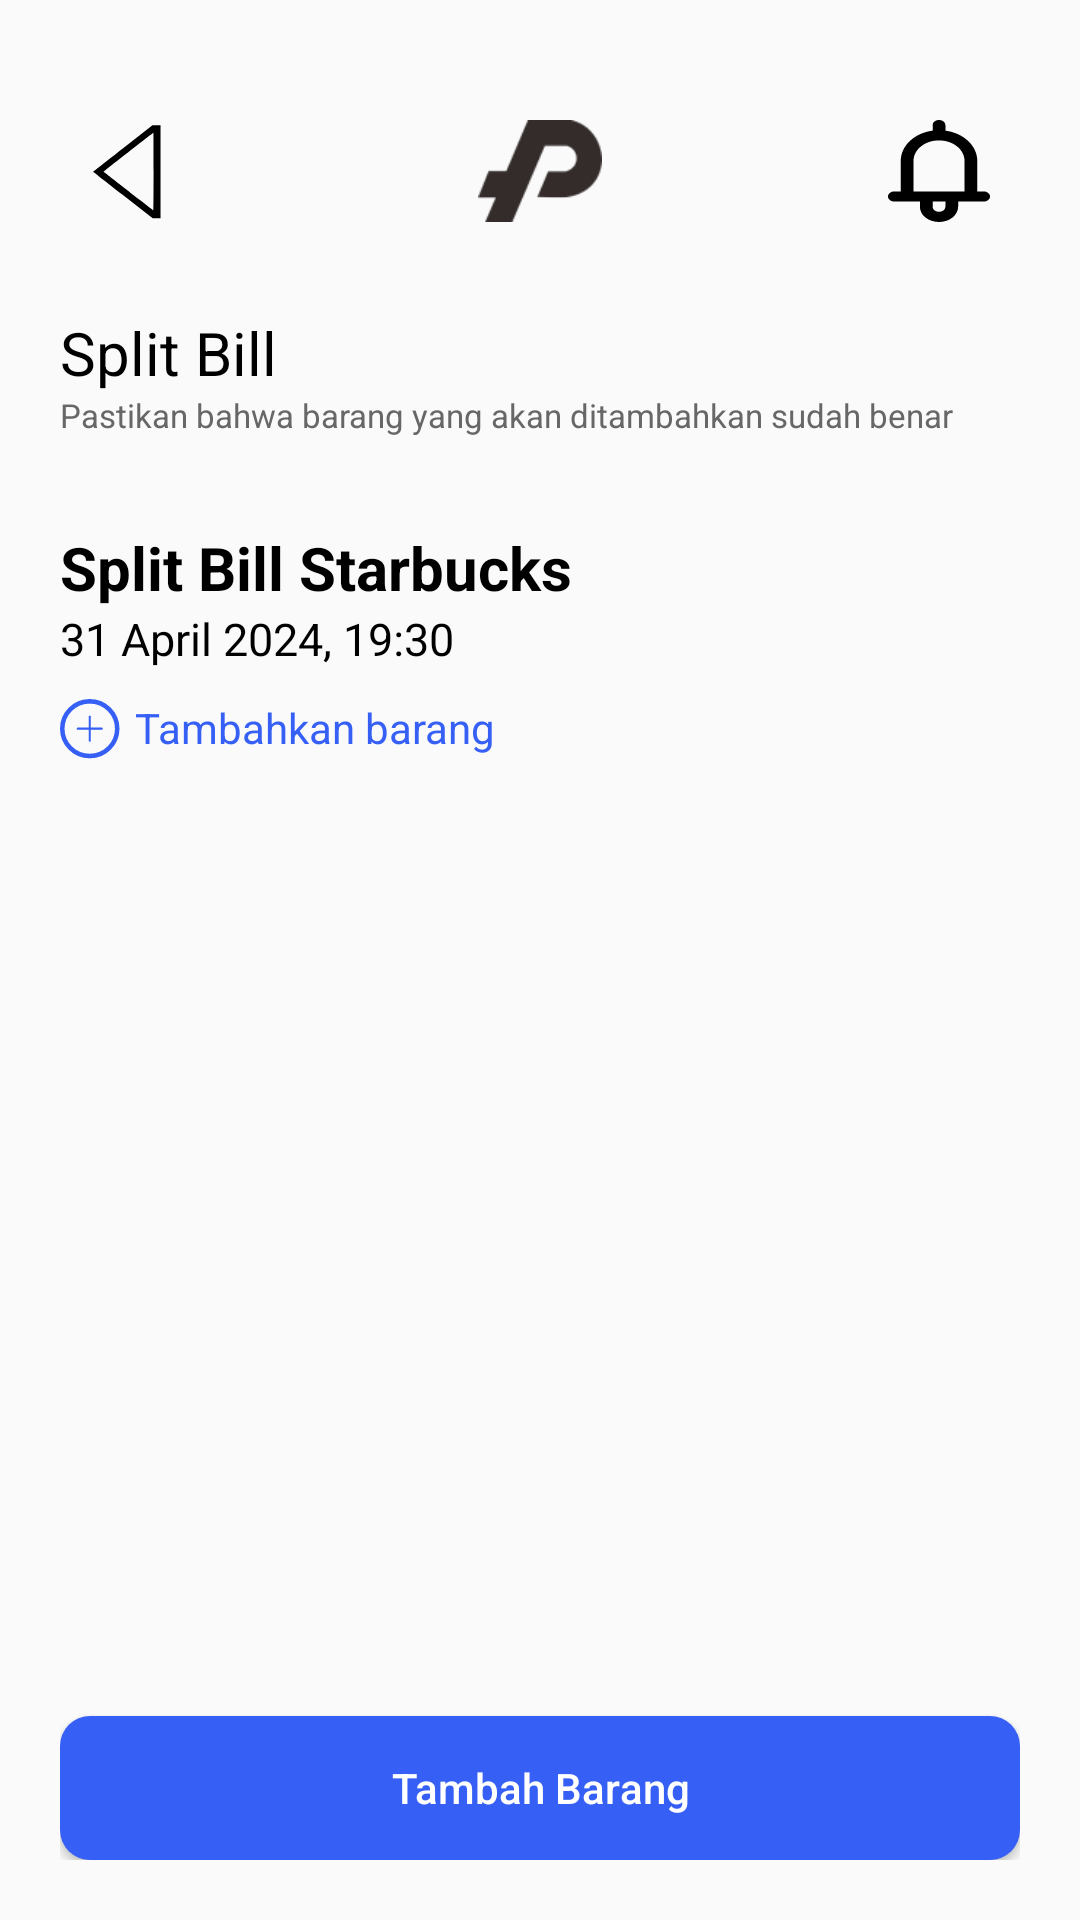

Screen size 1080px×1920px. Icon name, then its center in pixels as (x=x, y=y):
add: (x=90, y=729)
back: (x=127, y=172)
bell: (x=939, y=171)
